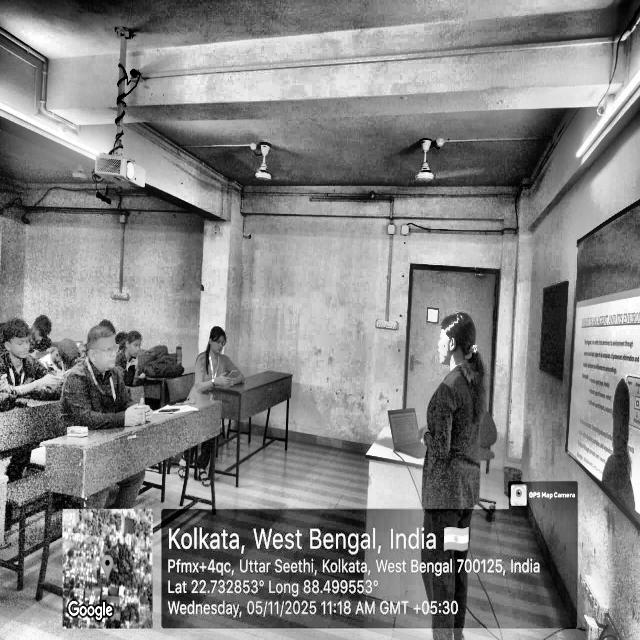Focus: (402, 291, 501, 381), (36, 303, 155, 363), (73, 310, 138, 398), (0, 303, 46, 382), (192, 314, 243, 378)
